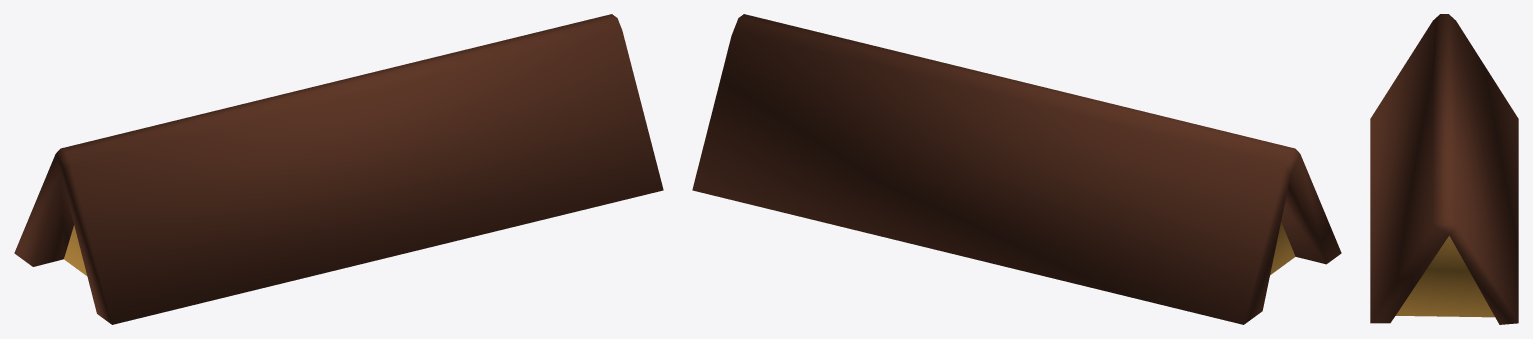
The model's file is log3.fbx.
3 views of the same model, side by side, from view 1: azimuth 30°, elevation 25°; view 2: azimuth 150°, elevation 25°; view 3: azimuth 270°, elevation 25° (orthographic). The views are drawn at different scales.
Visible parts, largest first — view 1: log3; view 2: log3; view 3: log3.
Boxes of the visible parts, x1,y1,x2,y2 form: log3: (14, 14, 663, 324); log3: (692, 14, 1341, 324); log3: (1370, 14, 1518, 324).
Size of the model in its own units: 121 by 28.78 by 36.87.
